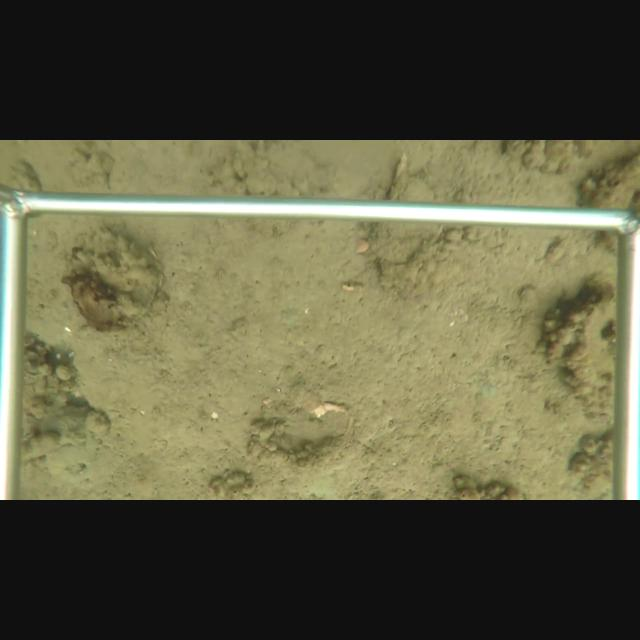Oyster-Closed: (68, 228, 164, 334), (370, 174, 438, 266)
